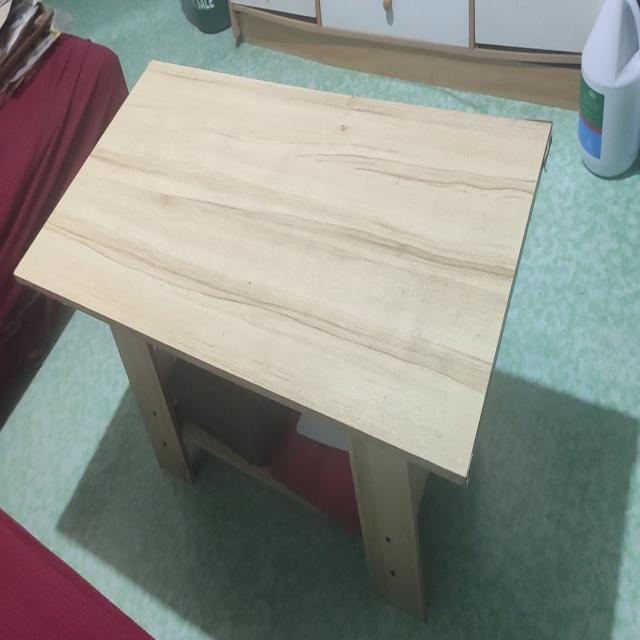table: (18, 50, 557, 600)
